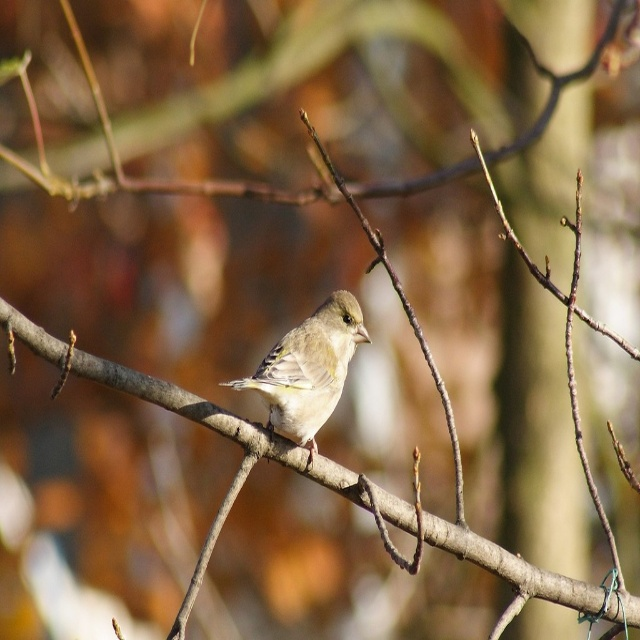Sparrow: (218, 284, 372, 473)
